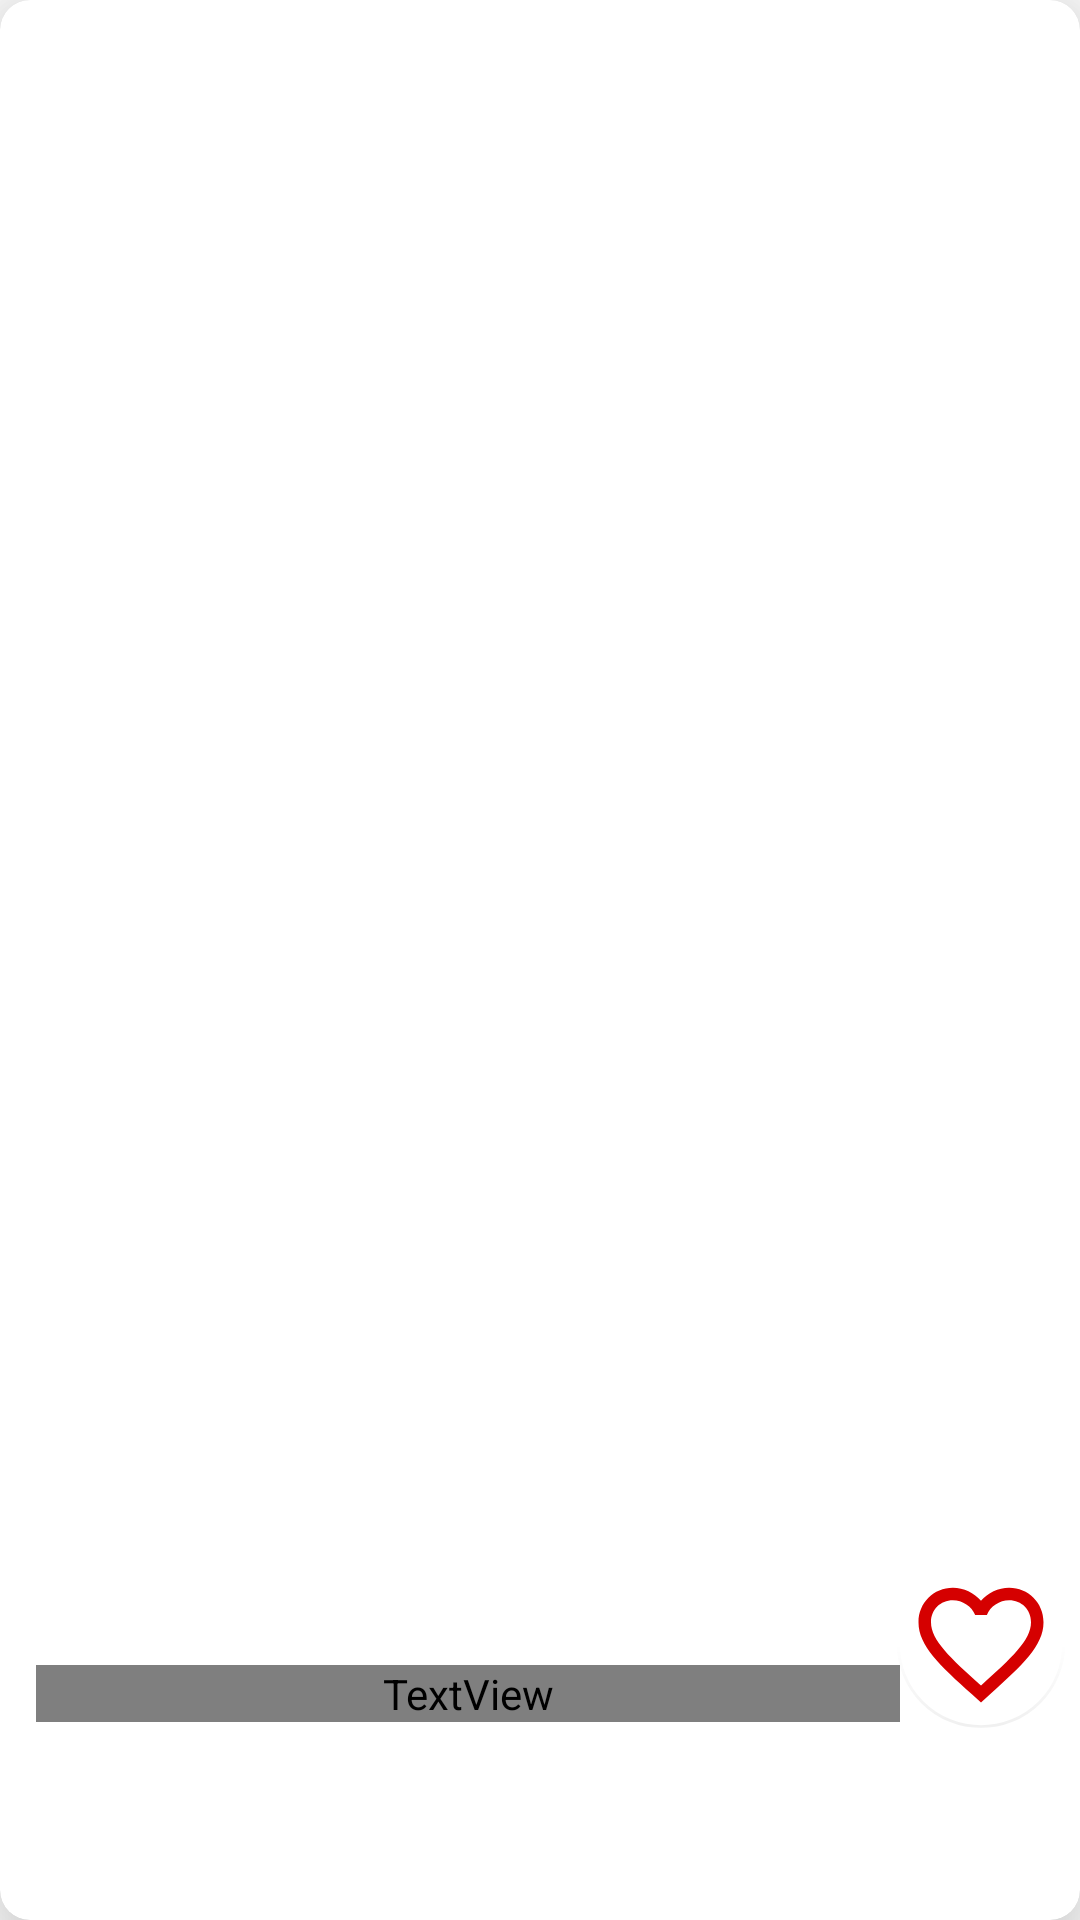

Screen size 1080×1920. Icon name, then its box in pixels as [x1,y1,x2,y2]:
ِAdd To Favorite: [918,1587,1044,1703]
